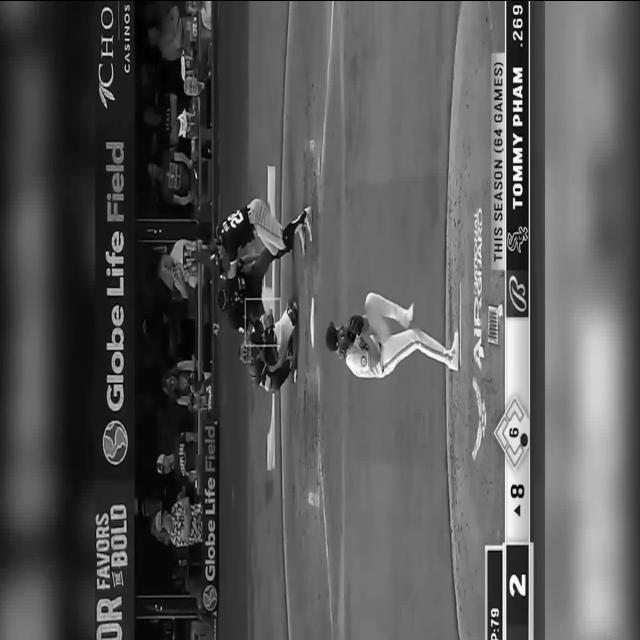baseball_glove: (347, 314, 364, 342)
shoe: (449, 330, 459, 371), (303, 206, 313, 242), (286, 300, 298, 326), (298, 223, 306, 255), (404, 303, 414, 328), (288, 359, 296, 383), (287, 336, 293, 356), (408, 303, 414, 321)
